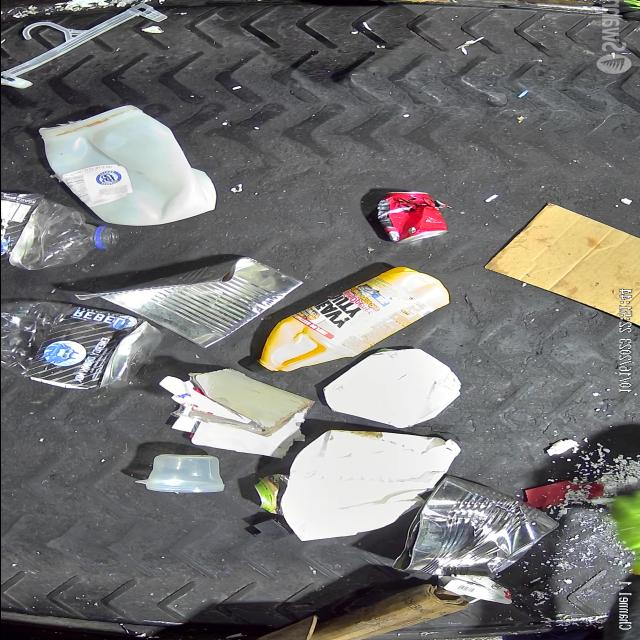can: (386, 480, 557, 586), (376, 192, 449, 244), (253, 474, 285, 512)
milk_jug: (37, 105, 215, 226)
non_white_jug: (248, 270, 452, 376)
plastic_bottle: (0, 300, 164, 389), (0, 190, 118, 270)
